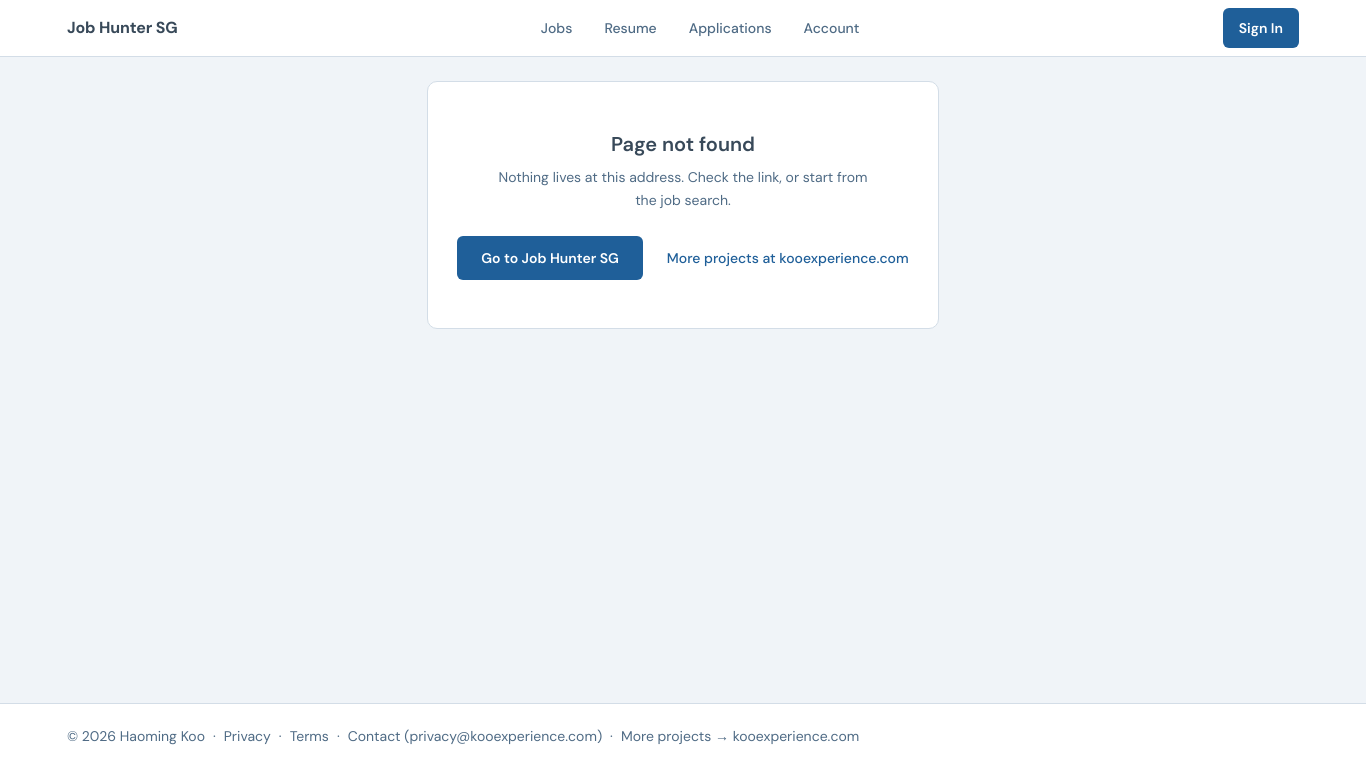
Test case: JobHunterSG app shell › shows a not-found view on unknown paths and the wordmark goes home
Expected: the heading "Page not found" is shown, [611,131,755,157]
Expected: the link to "/" is shown, [457,236,643,280]
Click the button "Job Hunter SG". click: x=122, y=28
box: [67,6,178,50]
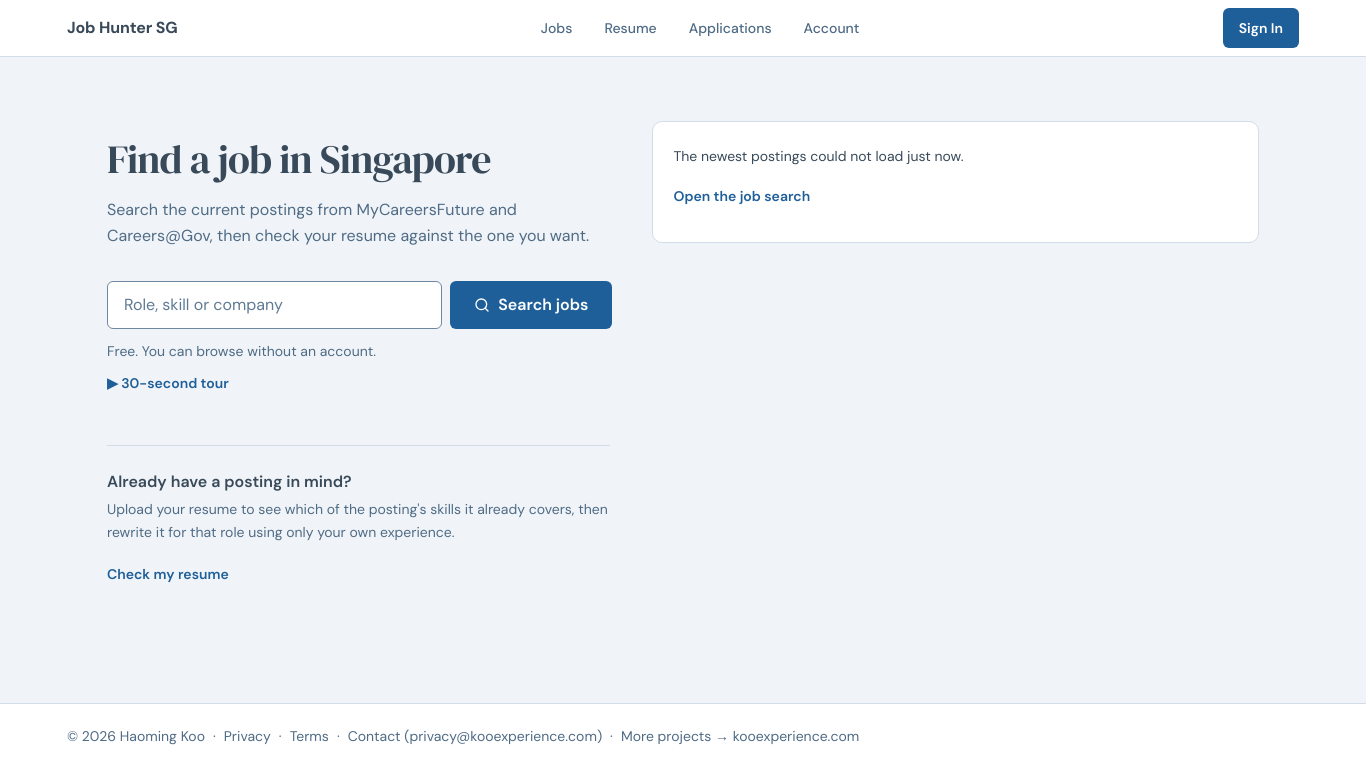
Expected: the text "Page not found" is gone
